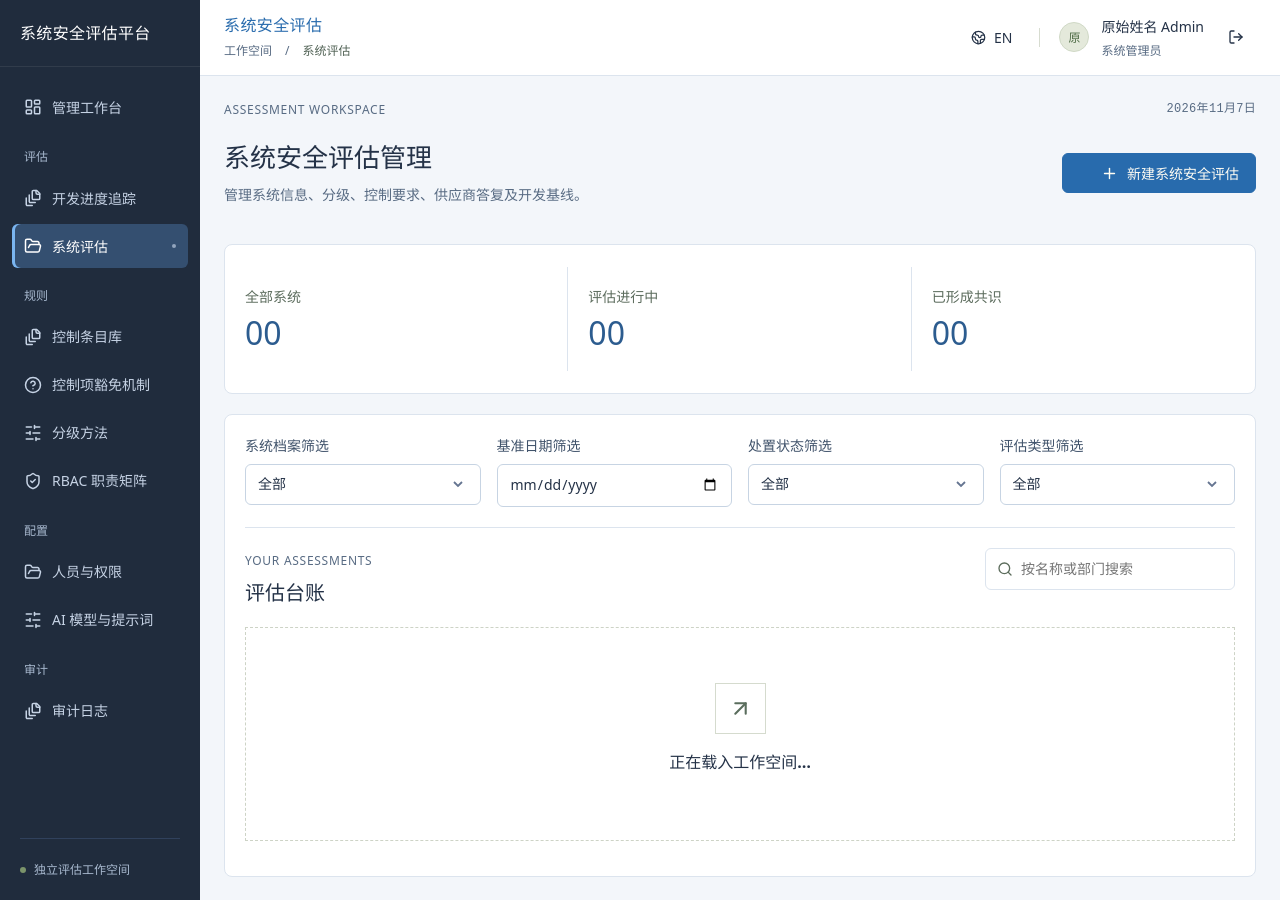
Test: opens the matrix from admin navigation and switches its copy without rewriting the user name
Step 1. Click the link "RBAC 职责矩阵" → (86, 481), box [24,471,147,490]
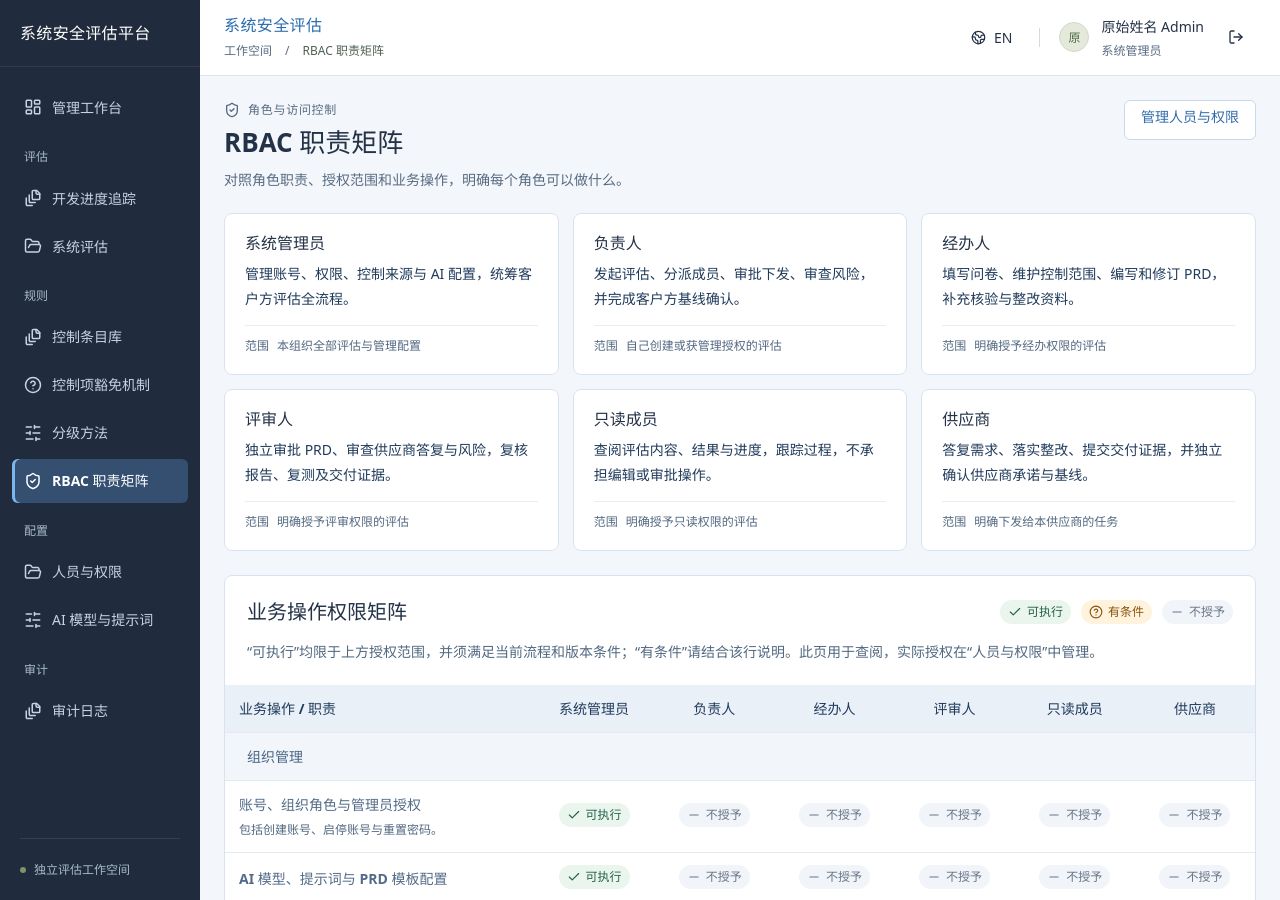
Expected: the heading "RBAC 职责矩阵" is shown, [224,124,403,160]
Step 2. Click the button with aria-label "切换为 English" → (992, 38), box [963,18,1020,58]
(page scrolled)
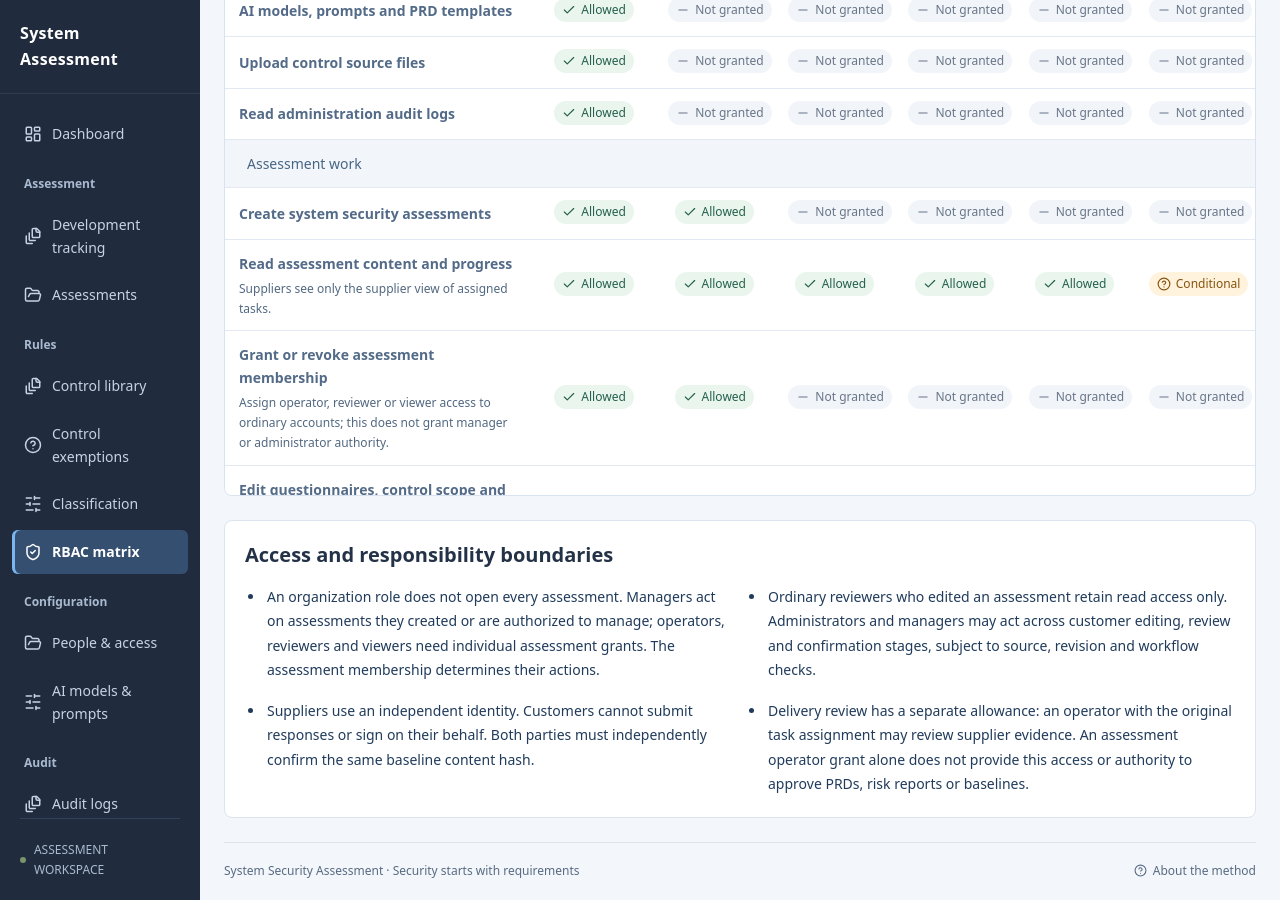
Expected: the list item "Both parties must independently confirm the same baseline content hash" is shown, [267,700,707,768]
